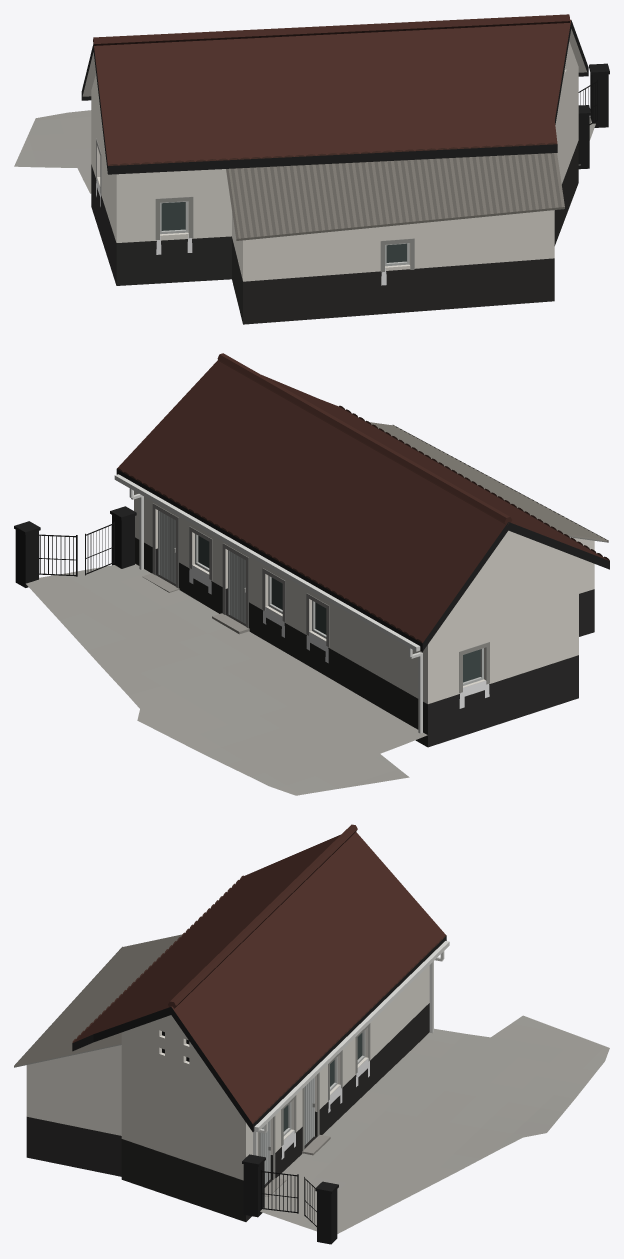
The model's file is vh_farm.glb.
3 views of the same model, one above another, from view 1: azimuth 30°, elevation 25°; view 2: azimuth 150°, elevation 25°; view 3: azimuth 270°, elevation 25° (orthographic). The views are drawn at different scales.
Visible parts, largest first — view 1: vh_roof, vh_trim, vh_brick, vh_stone, vh_paving, vh_glass, vh_frames_small; view 2: vh_roof, vh_paving, vh_brick, vh_trim, vh_stone, vh_frames_small, vh_glass, vh_metal_small, vh_streaks_small; view 3: vh_roof, vh_paving, vh_brick, vh_trim, vh_stone, vh_frames_small, vh_metal_small.
Part boxes in pixels (left/top/right/bottom): vh_roof: left=93, top=14, right=571, bottom=165; vh_trim: left=81, top=20, right=609, bottom=324; vh_brick: left=91, top=41, right=578, bottom=281; vh_stone: left=96, top=138, right=564, bottom=272; vh_paving: left=14, top=110, right=595, bottom=193; vh_glass: left=161, top=202, right=406, bottom=262; vh_frames_small: left=160, top=201, right=409, bottom=266; vh_roof: left=118, top=353, right=608, bottom=642; vh_paving: left=26, top=564, right=427, bottom=795; vh_brick: left=134, top=491, right=594, bottom=703; vh_trim: left=14, top=405, right=609, bottom=747; vh_stone: left=142, top=422, right=608, bottom=693; vh_frames_small: left=114, top=474, right=483, bottom=733; vh_glass: left=198, top=536, right=480, bottom=682; vh_metal_small: left=39, top=521, right=245, bottom=592; vh_streaks_small: left=189, top=565, right=489, bottom=708; vh_roof: left=73, top=824, right=445, bottom=1123; vh_paving: left=260, top=1015, right=609, bottom=1233; vh_brick: left=26, top=965, right=429, bottom=1180; vh_trim: left=14, top=875, right=446, bottom=1244; vh_stone: left=14, top=934, right=370, bottom=1196; vh_frames_small: left=253, top=941, right=449, bottom=1183; vh_metal_small: left=260, top=1103, right=316, bottom=1226.
Bounding box in the file's own units: 17.27 × 6.28 × 17.13.
